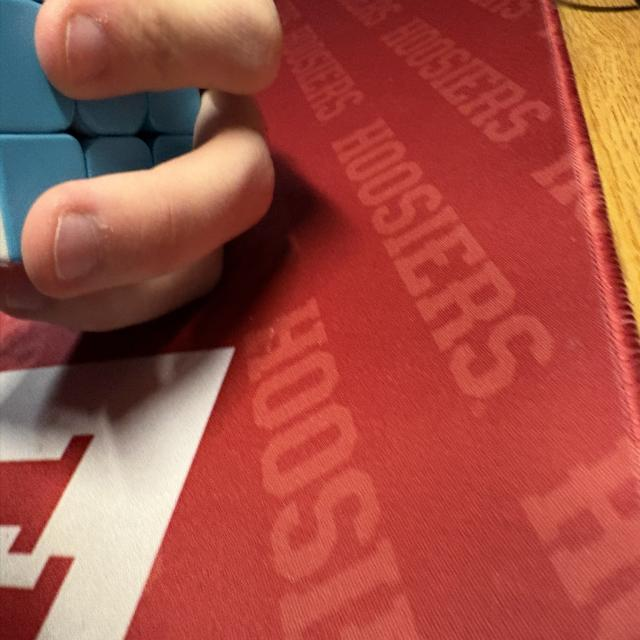Rubiks Cube: (0, 0, 202, 265)
